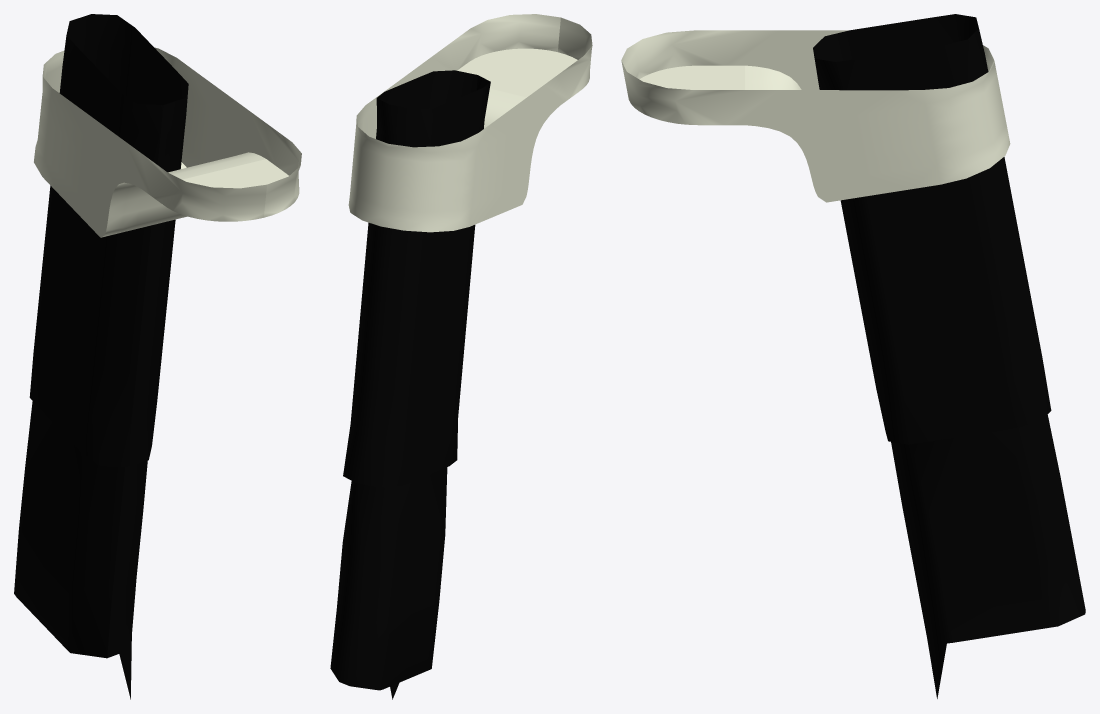
3 views of the same model, side by side, from view 1: azimuth 30°, elevation 25°; view 2: azimuth 150°, elevation 25°; view 3: azimuth 270°, elevation 25° (orthographic). The views are drawn at different scales.
Bounding box in the file's own units: 0.0634 × 0.3284 × 0.2084.
